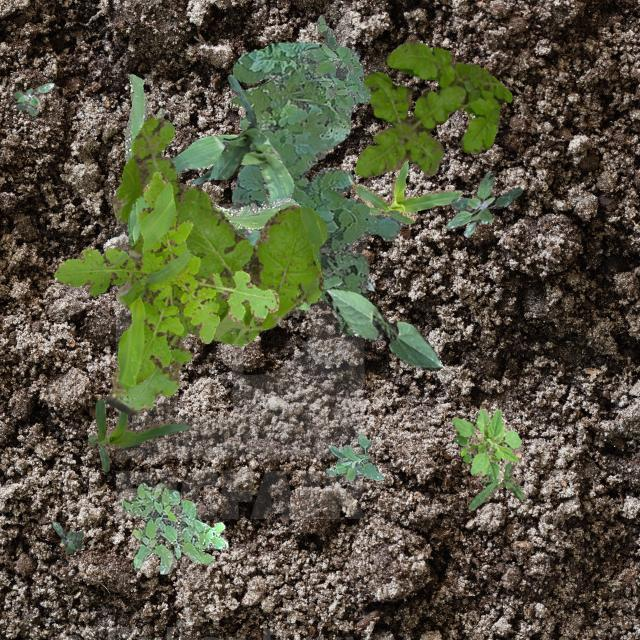crop: (168, 133, 292, 245), (324, 286, 442, 370), (192, 74, 266, 182), (86, 398, 190, 470), (348, 160, 462, 222), (294, 272, 374, 308)
weed: (105, 113, 326, 414), (230, 40, 402, 334), (52, 170, 278, 384), (124, 72, 298, 244), (354, 40, 511, 176), (120, 482, 227, 572), (300, 13, 370, 108), (450, 408, 522, 483), (444, 172, 520, 236), (324, 432, 382, 480), (468, 462, 524, 508), (12, 82, 52, 114), (52, 520, 82, 552)
